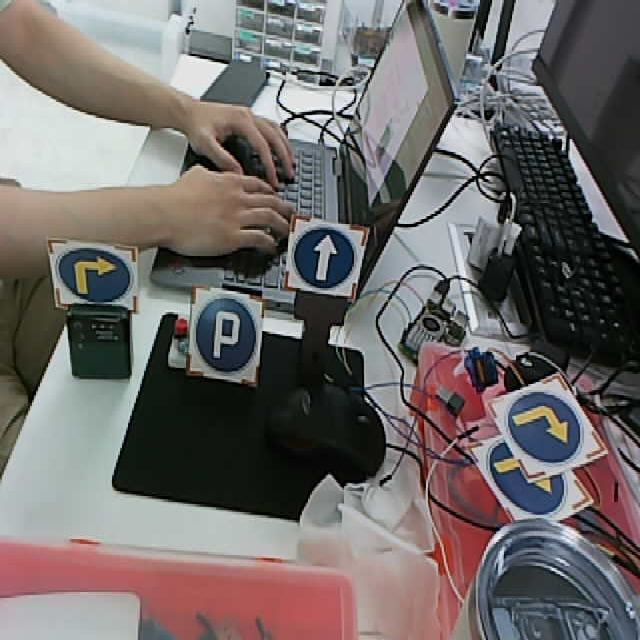parking: (186, 286, 264, 388)
right: (487, 375, 607, 481), (469, 432, 594, 521), (47, 237, 139, 316)
straight: (284, 214, 368, 300)
